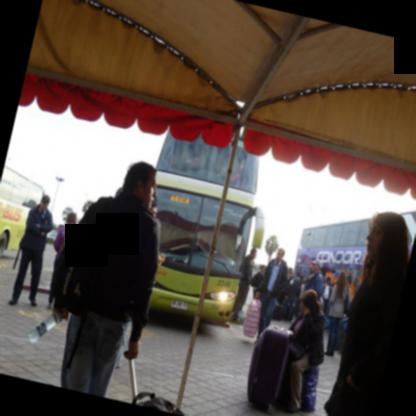backpack: (50, 212, 108, 317), (250, 272, 262, 287)
handbag: (43, 193, 106, 319), (290, 339, 311, 361), (343, 289, 349, 315)
suitcase: (246, 326, 292, 414), (131, 397, 185, 416), (273, 305, 284, 321), (284, 305, 294, 321)
